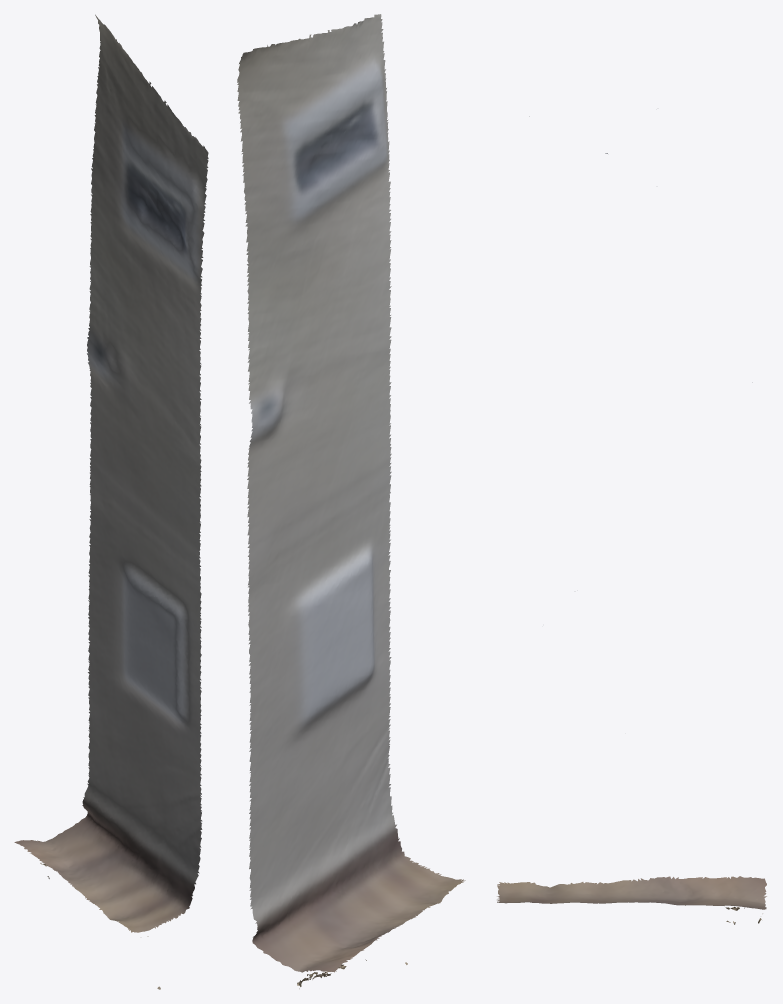
The model's file is apartment-full-124-234007fab31c.glb.
3 renders of one model, left to right at view 1: azimuth 30°, elevation 25°; view 2: azimuth 150°, elevation 25°; view 3: azimuth 270°, elevation 25°, orthographic. The views are drawn at different scales.
Bounding box in the file's own units: 0.279 × 2.69 × 0.666.
